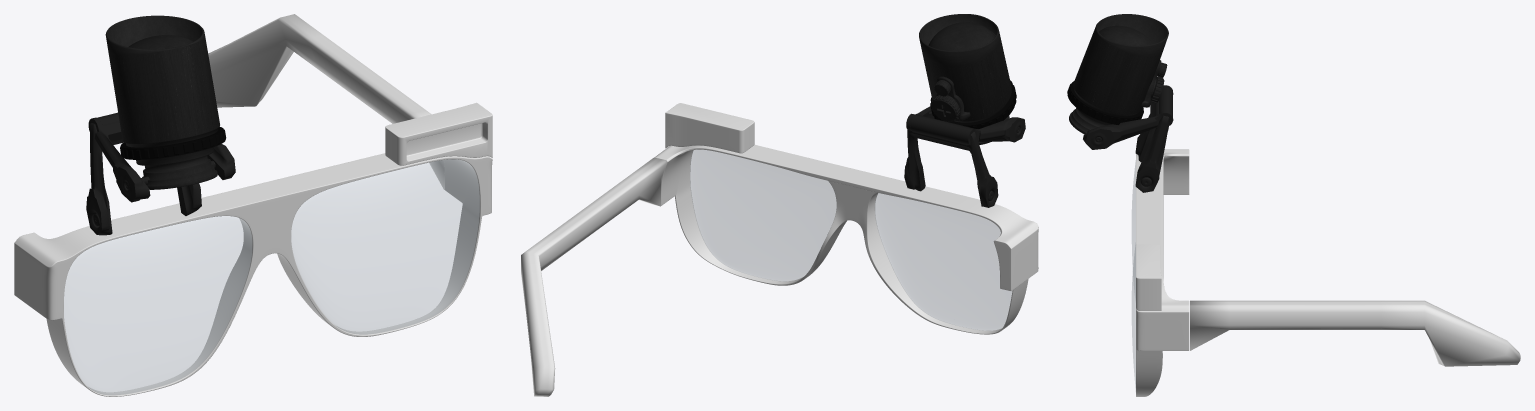
Rendered from spectra_test.glb.
3 views of the same model, side by side, from view 1: azimuth 30°, elevation 25°; view 2: azimuth 150°, elevation 25°; view 3: azimuth 270°, elevation 25° (orthographic). The views are drawn at different scales.
Visible parts, largest first — view 1: glass, front frame, *-ttach_1_SCOPE, frame arms, Attach_1_Hinge, top_attachment, Attach_1_RING; view 2: glass, front frame, frame arms, *-ttach_1_SCOPE, Attach_1_Hinge, top_attachment, Attach_1_ DIALS, Attach_1_RING; view 3: frame arms, *-ttach_1_SCOPE, front frame, Attach_1_Hinge, top_attachment, Attach_1_RING, glass, Attach_1_ DIALS.
Part boxes in pixels (box(x1,y1,x2,y2)): glass: box(64, 159, 479, 394); front frame: box(14, 153, 492, 396); *-ttach_1_SCOPE: box(105, 15, 219, 189); frame arms: box(208, 14, 444, 189); Attach_1_Hinge: box(86, 112, 235, 235); top_attachment: box(385, 102, 492, 165); Attach_1_RING: box(120, 127, 226, 159); glass: box(690, 150, 1011, 330); front frame: box(654, 144, 1038, 334); frame arms: box(521, 157, 667, 396); *-ttach_1_SCOPE: box(919, 14, 1011, 144); Attach_1_Hinge: box(904, 106, 1025, 207); top_attachment: box(665, 103, 754, 153); Attach_1_ DIALS: box(931, 76, 970, 121); Attach_1_RING: box(930, 80, 1016, 128); frame arms: box(1190, 300, 1520, 366); *-ttach_1_SCOPE: box(1069, 14, 1168, 134); front frame: box(1136, 149, 1189, 396); Attach_1_Hinge: box(1083, 85, 1173, 192); top_attachment: box(1136, 244, 1161, 310); Attach_1_RING: box(1067, 81, 1143, 124); glass: box(1132, 162, 1135, 388); Attach_1_ DIALS: box(1141, 60, 1167, 107).
Size of the model in its own units: 3.64 by 2.84 by 4.33.
Materials: 5 (2 with a texture image).
